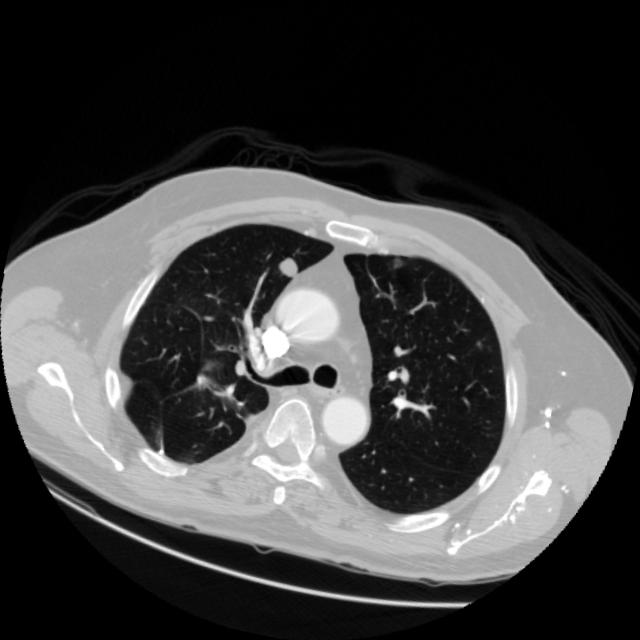nodule: (262, 241, 312, 291)
